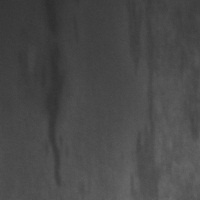inclusion: (125, 1, 161, 199), (32, 1, 68, 188), (171, 35, 199, 146)
